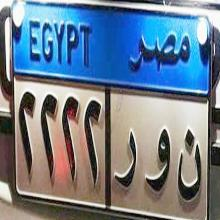2: (16, 87, 38, 184), (59, 91, 81, 187), (82, 93, 103, 192), (39, 91, 59, 187)
noon: (174, 120, 202, 213)
raa: (110, 112, 138, 193)
waw: (141, 114, 172, 203)
